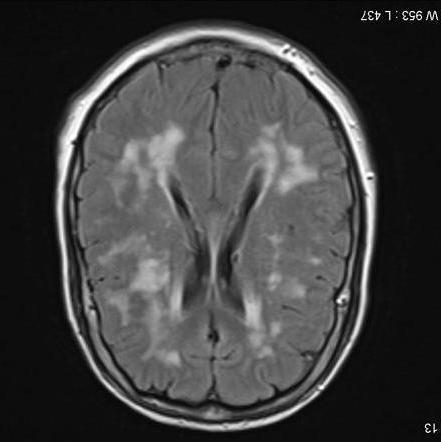Normal_Brain: (33, 20, 416, 442)
